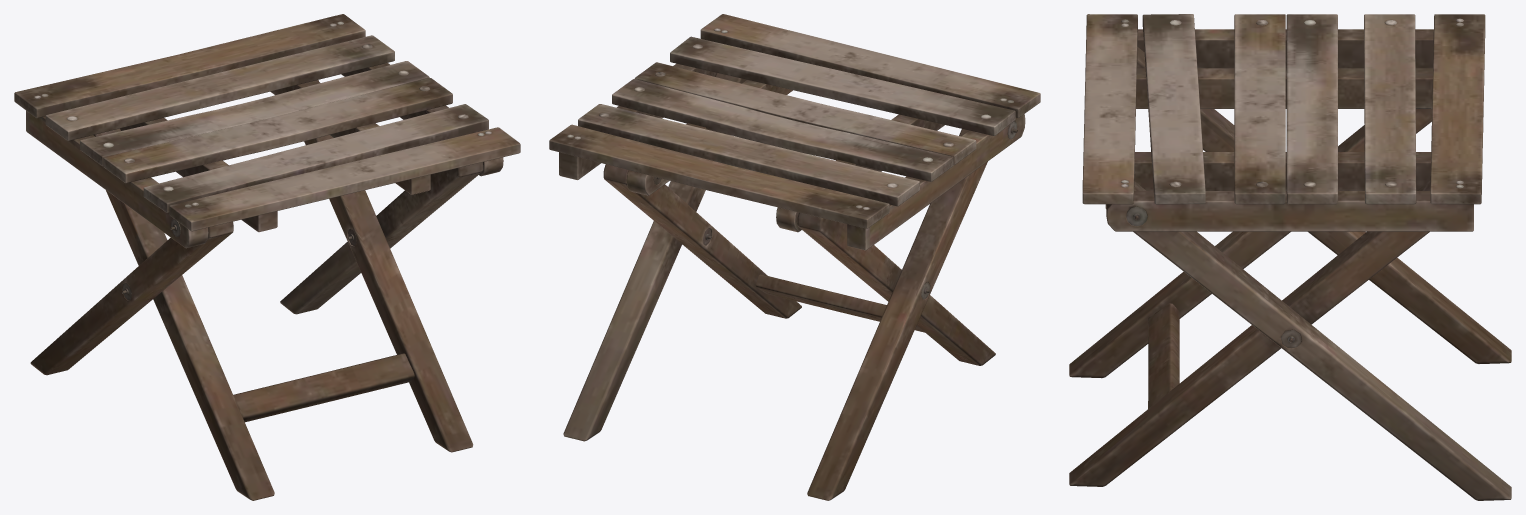
The model's file is folding_wooden_stool.glb.
3 renders of one model, left to right at view 1: azimuth 30°, elevation 25°; view 2: azimuth 150°, elevation 25°; view 3: azimuth 270°, elevation 25°, orthographic. The views are drawn at different scales.
Visible parts, largest first — view 1: folding_wooden_stool; view 2: folding_wooden_stool; view 3: folding_wooden_stool.
Boxes of the visible parts, x1,y1,x2,y2 form: folding_wooden_stool: [14, 14, 520, 500]; folding_wooden_stool: [549, 14, 1040, 500]; folding_wooden_stool: [1069, 14, 1511, 500].
Size of the model in its own units: 0.5278 by 0.442 by 0.5471.
1 material, 1 textured.
